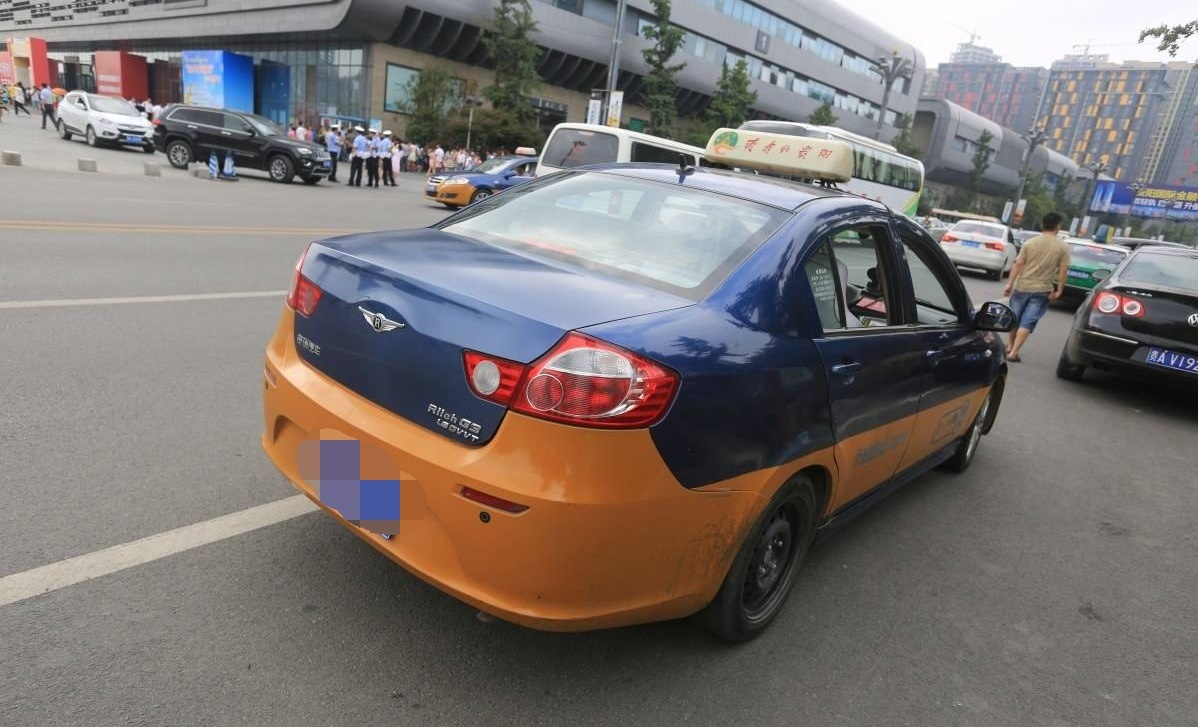SUV: (144, 90, 327, 198), (48, 78, 151, 162)
family sedan: (1073, 235, 1198, 402)
taxi: (256, 139, 1011, 625)
